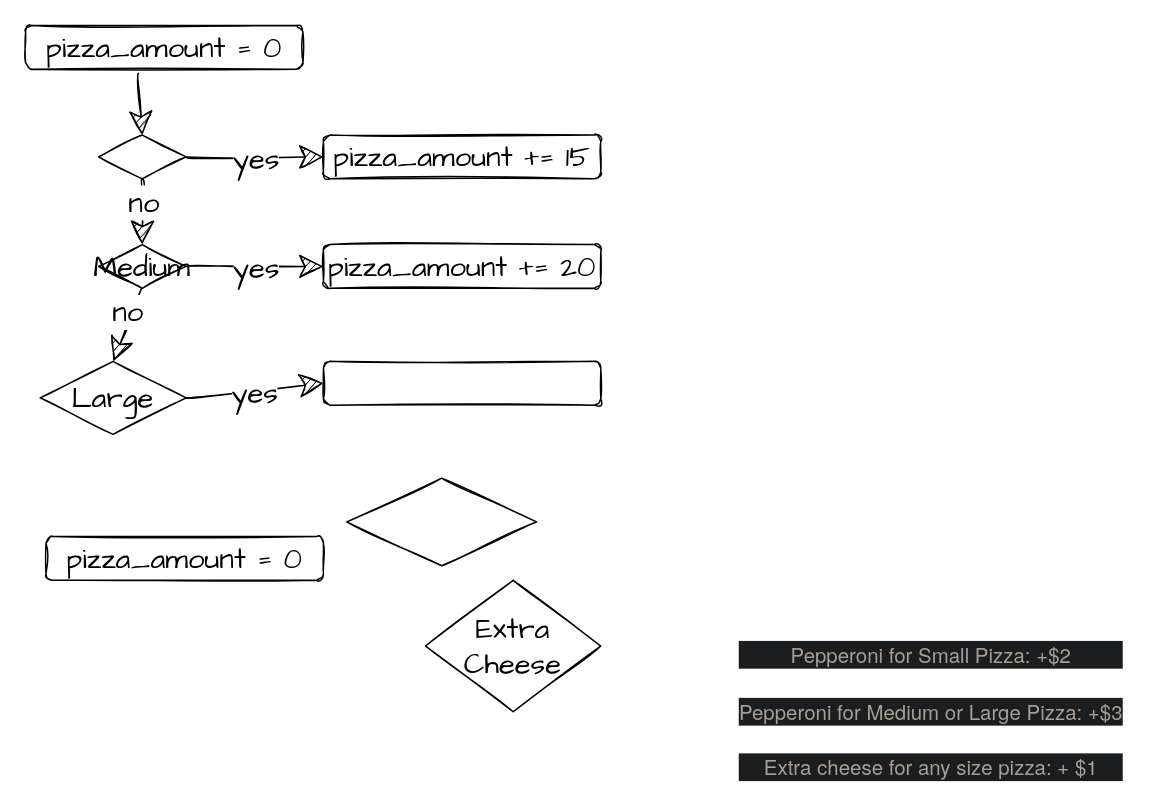
The diagram is 1161 pixels wide and 810 high, and some of its shapes have lost their labels. The centre of each missing label's shape, as x and y in pixels:
Peperoni: (x=441, y=521)
pizza_amount += 25: (x=461, y=382)
Small: (x=141, y=156)
